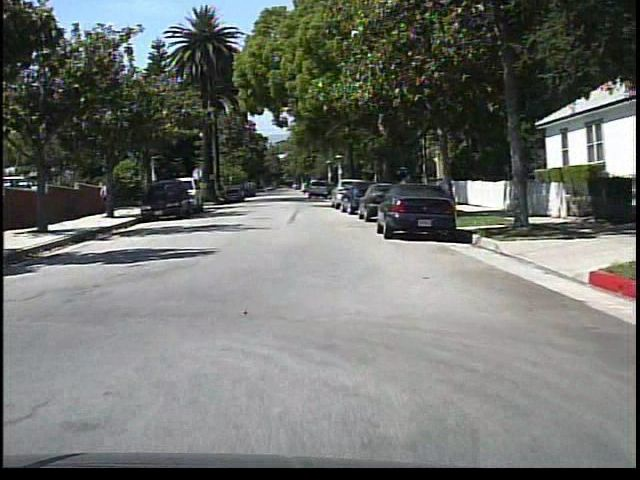person: (95, 177, 112, 216)
